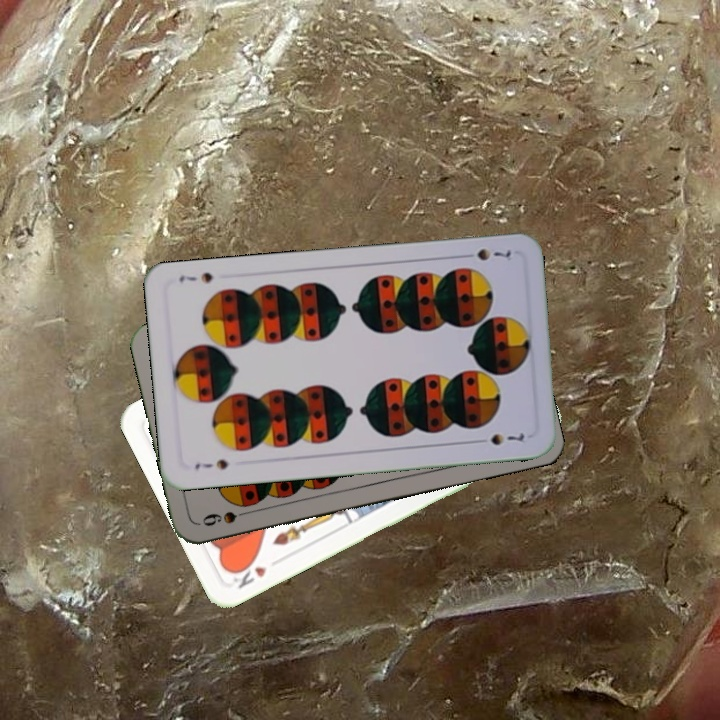HK: (227, 556, 270, 591)
S7: (457, 244, 515, 264), (191, 455, 231, 472)
S9: (198, 506, 256, 529)
